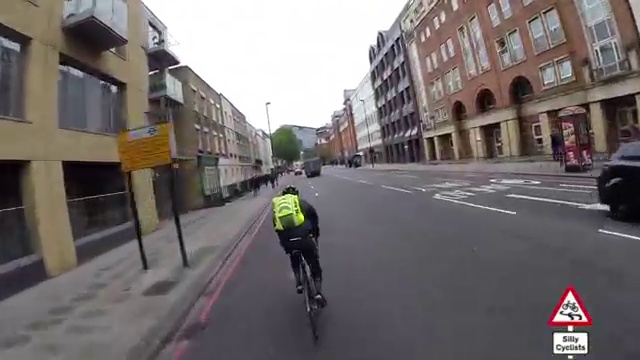cyclist_back: (269, 181, 328, 346)
